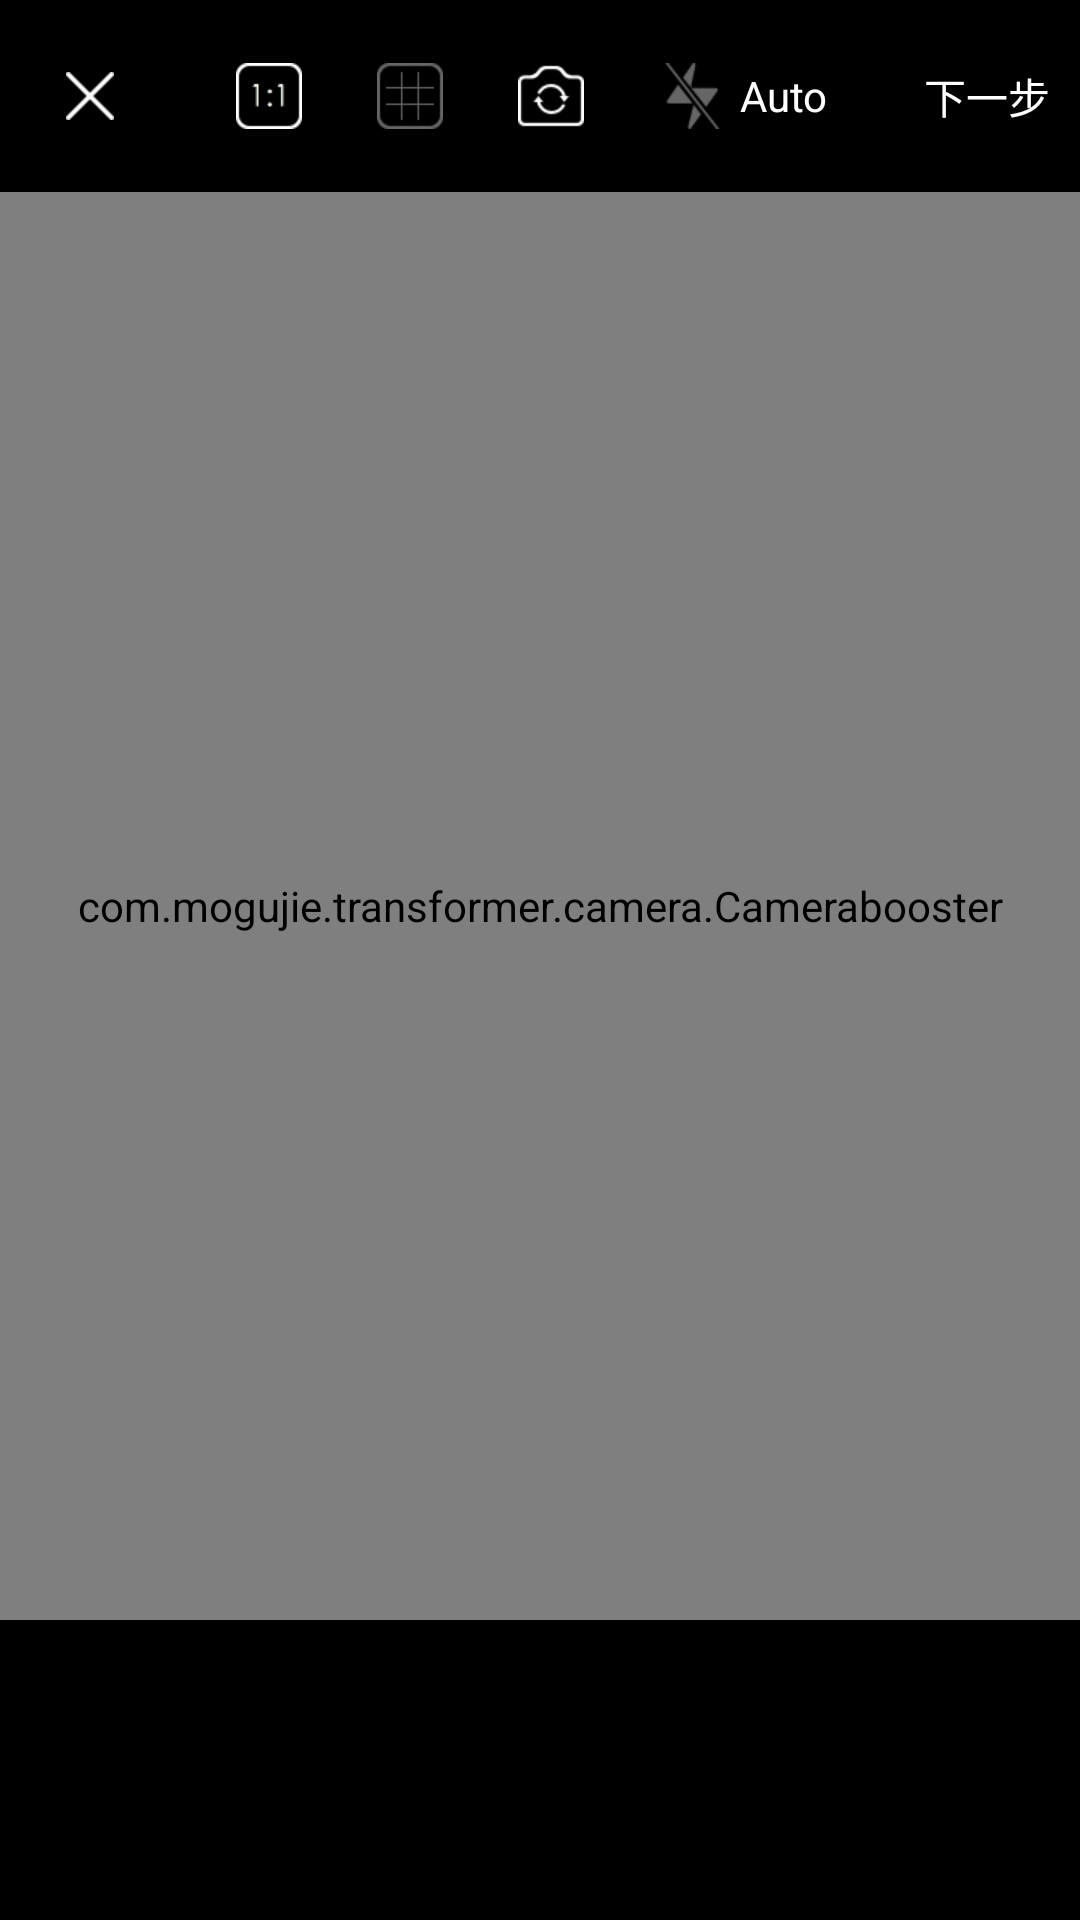

Locate icon controls on the screen. Image size 1080×1920, boxes as (x1, y1, x2, y2).
camera close: (66, 72, 114, 120)
camera dividing off: (377, 63, 443, 129)
camera flash off: (665, 63, 719, 129)
camera ratio: (236, 63, 302, 129)
